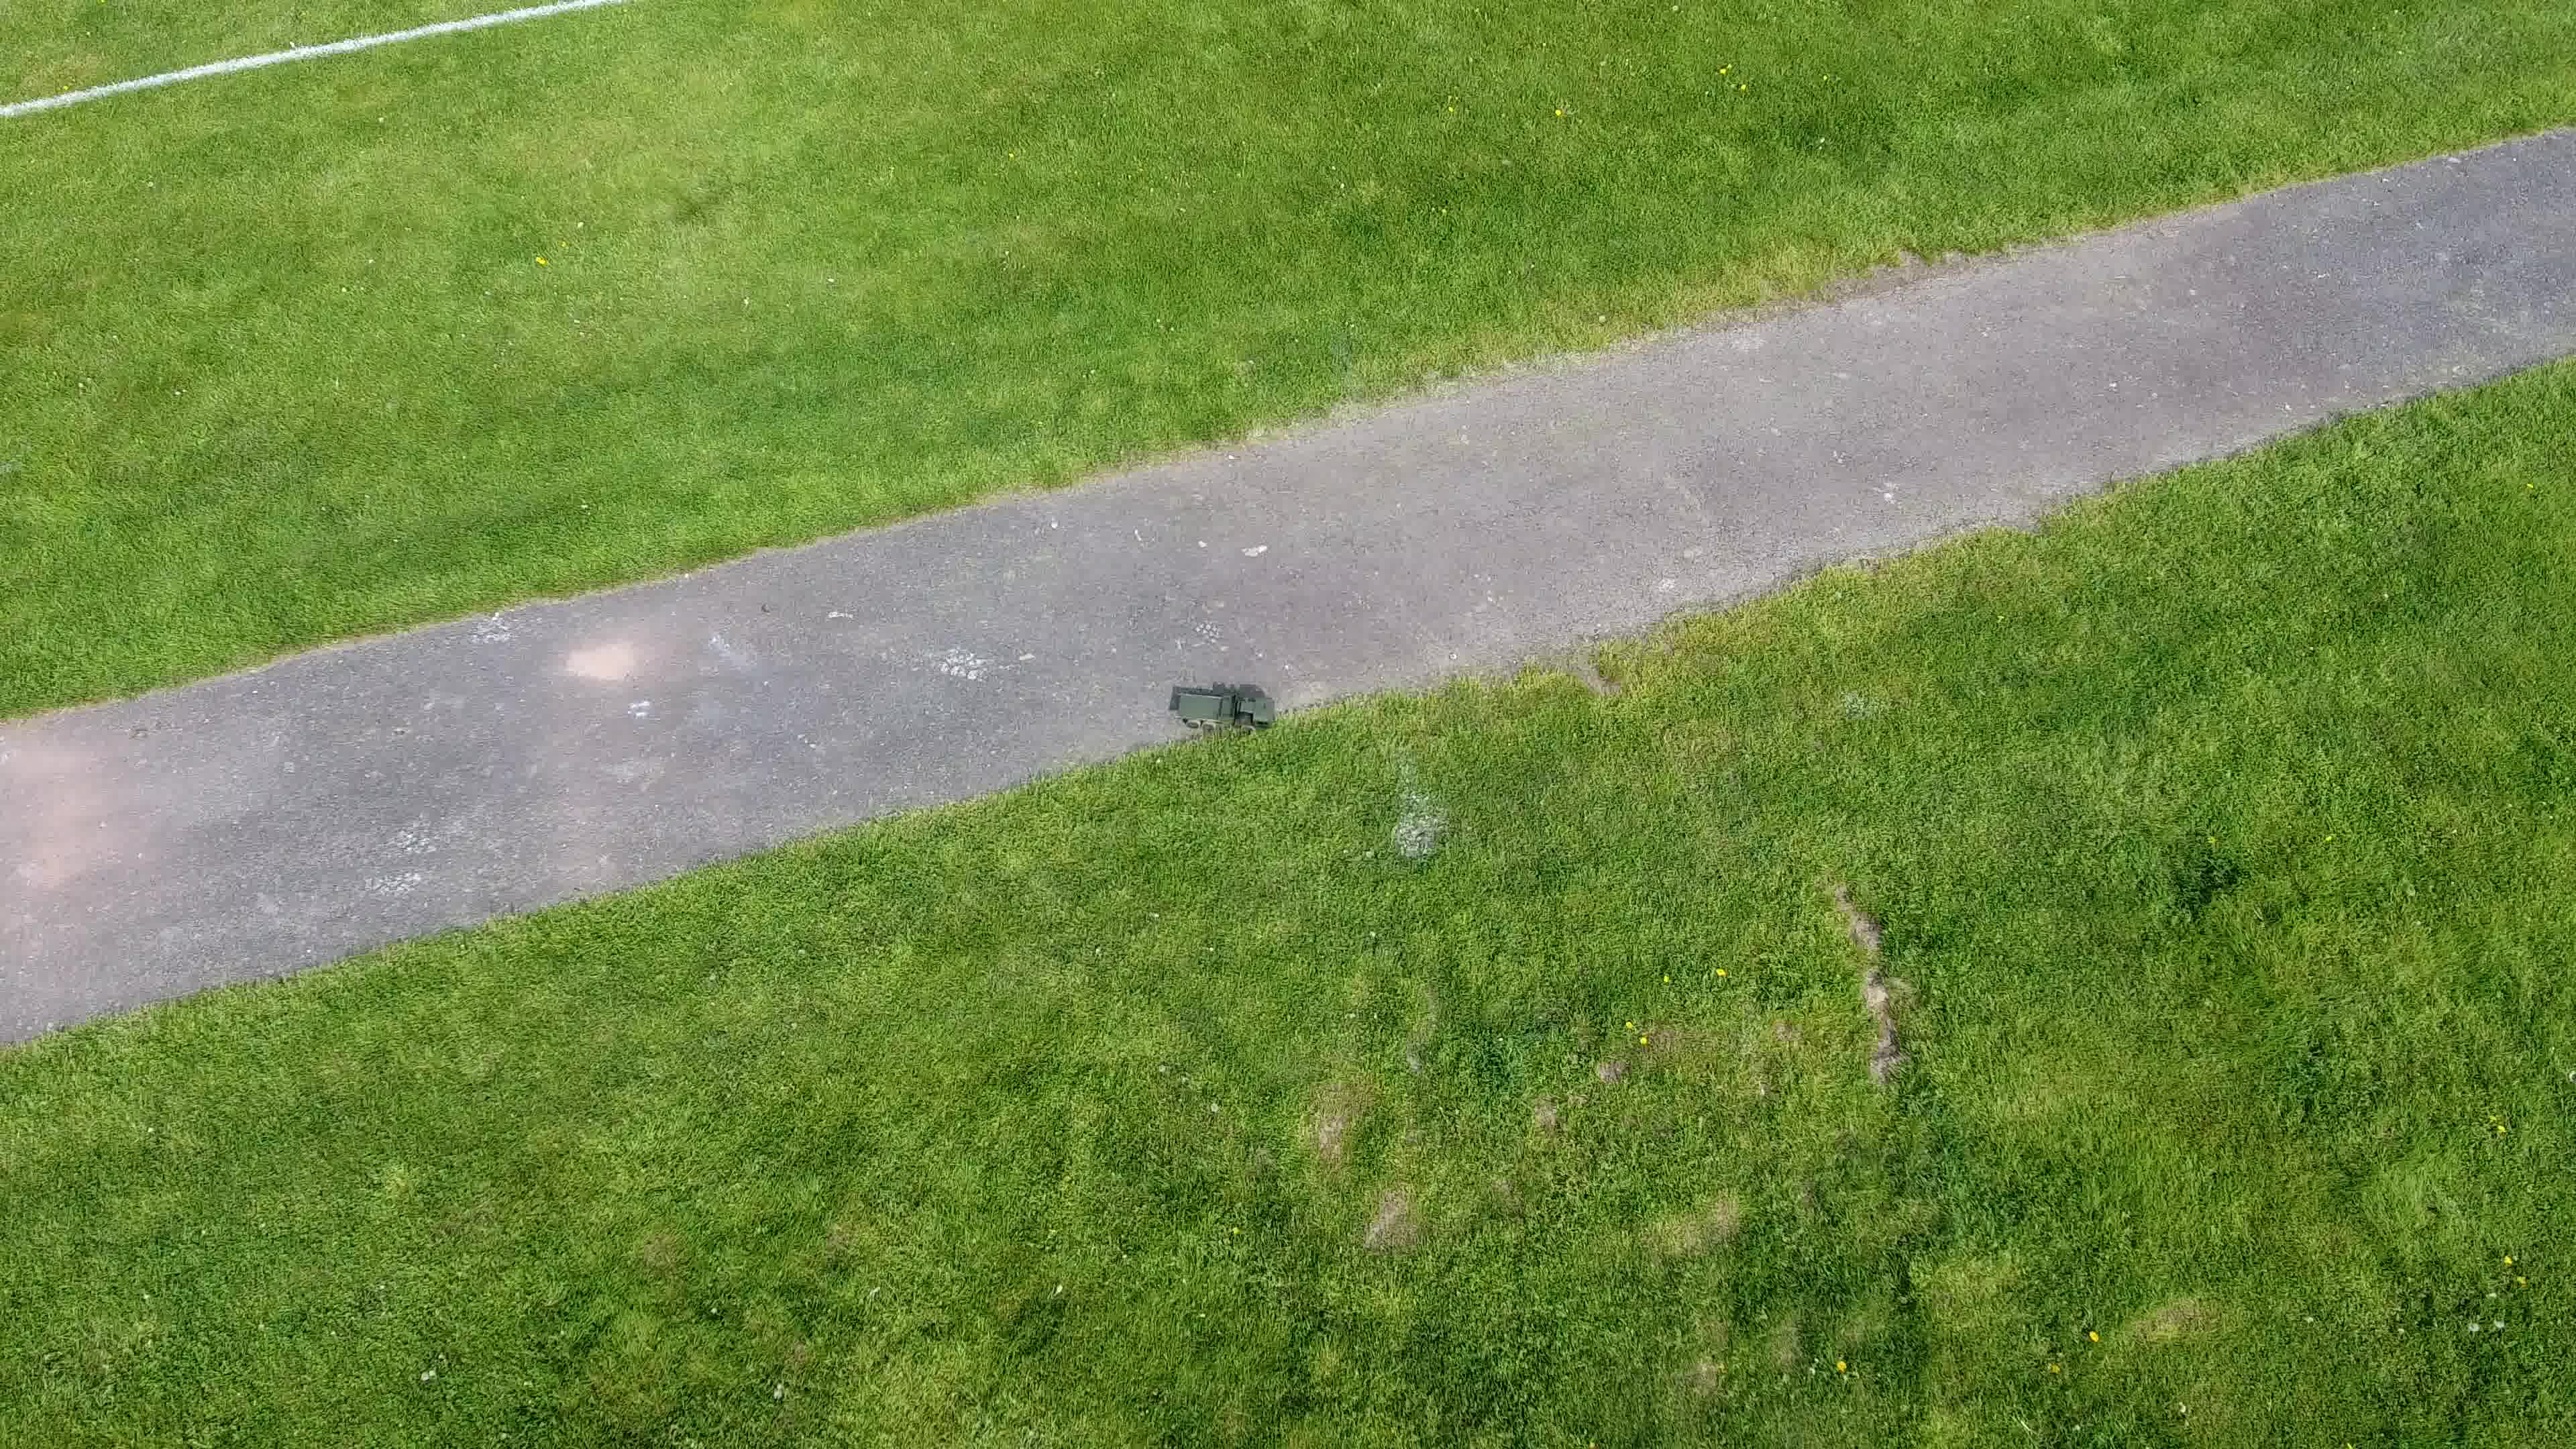transporter9: (1171, 686, 1277, 736)
